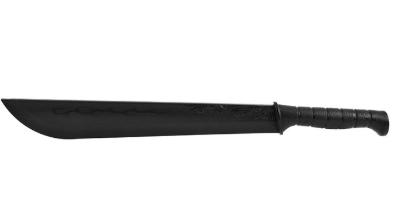MACHETTE: (0, 94, 394, 163)
